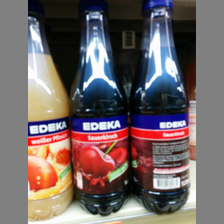juice: (128, 1, 191, 214), (70, 1, 132, 215), (28, 1, 75, 221)
